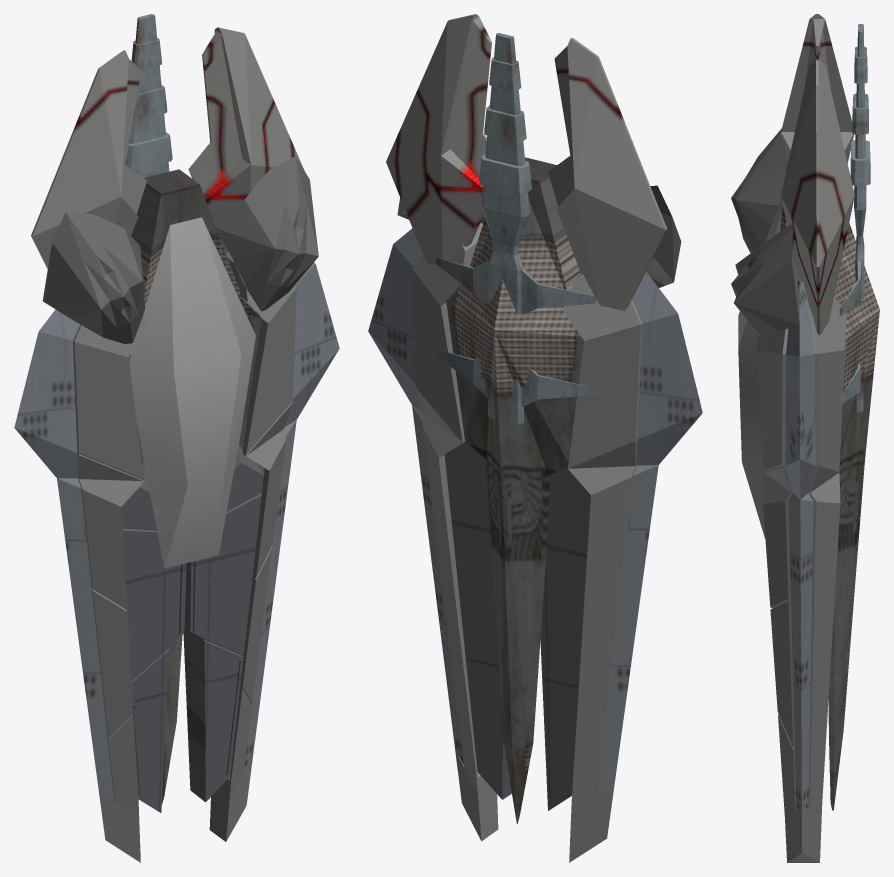
Rendered from wingopen (2).fbx.
3 views of the same model, side by side, from view 1: azimuth 30°, elevation 25°; view 2: azimuth 150°, elevation 25°; view 3: azimuth 270°, elevation 25° (orthographic). The views are drawn at different scales.
Visible parts, largest first — view 1: polySurface3355, polySurface3360; view 2: polySurface3355; view 3: polySurface3355, polySurface3360.
Part boxes in pixels (box(x1,y1,x2,y2)): polySurface3355: box(14, 14, 339, 862); polySurface3360: box(129, 217, 255, 568); polySurface3355: box(368, 14, 702, 862); polySurface3355: box(731, 14, 879, 862); polySurface3360: box(738, 198, 781, 538).
Size of the model in its own units: 3.97 by 9.44 by 1.57.
